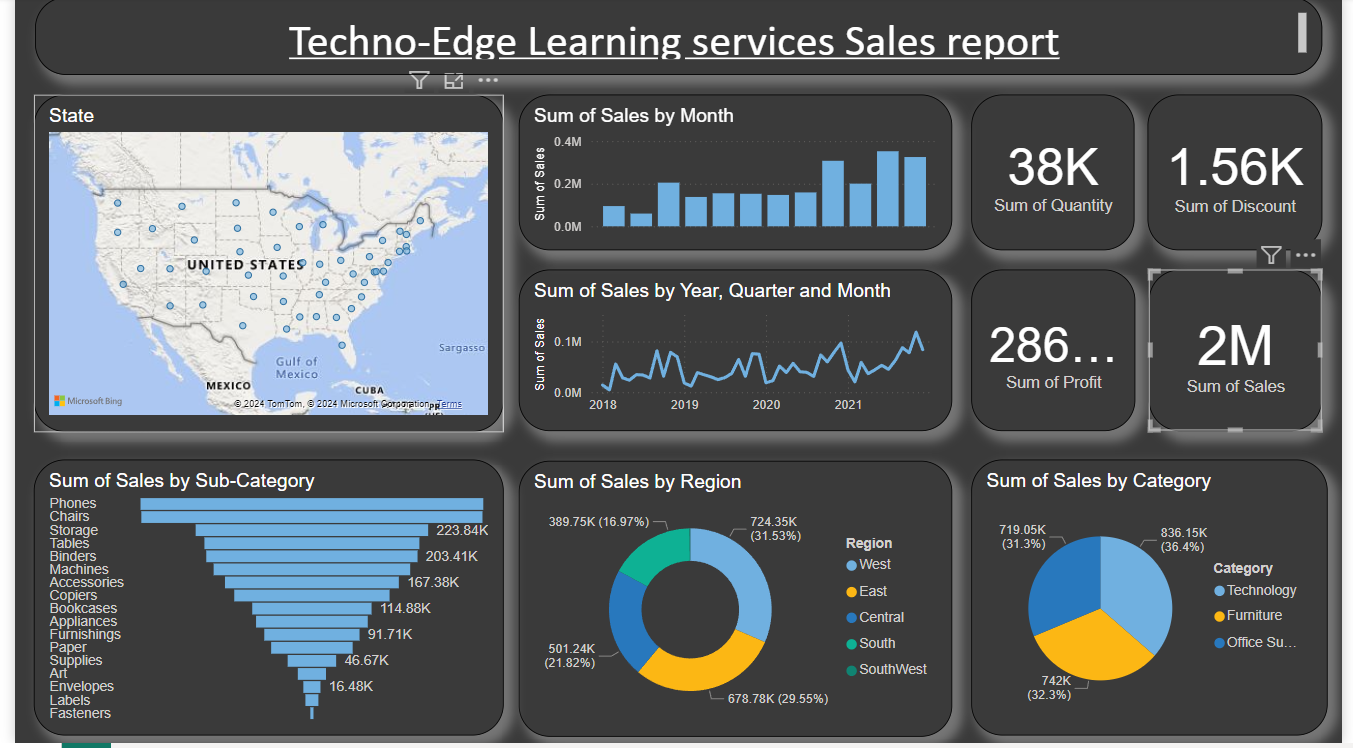

The page's visual inventory and layout, read from the dashboard file:
{"tool":"powerbi","page":{"name":"Page 1","canvas":[1280,720],"ordinal":0},"visuals":[{"type":"pieChart","fields":{"Category":["Orders.Category"],"Y":["Sum(Orders.Sales)"]},"box":[922.5,446.2,343.8,266.2],"z":0},{"type":"donutChart","fields":{"Category":["Orders.Region"],"Y":["Sum(Orders.Sales)"]},"box":[486.2,447.5,418.8,266.2],"z":1000},{"type":"funnel","fields":{"Category":["Orders.Sub-Category"],"Y":["Sum(Orders.Sales)"]},"box":[14,446.3,453.7,266.6],"z":2000},{"type":"map","fields":{"Category":["Orders.State"]},"box":[18.3,94.2,453.7,325.3],"z":3000},{"type":"lineChart","fields":{"Category":["Orders.Order Date.Variation.Date Hierarchy.Year","Orders.Order Date.Variation.Date Hierarchy.Quarter","Orders.Order Date.Variation.Date Hierarchy.Month"],"Y":["Sum(Orders.Sales)"]},"box":[486.2,262.5,418.8,156.2],"z":4000},{"type":"card","fields":{"Values":["Sum(Orders1.Profit)"]},"box":[922.5,262.5,158.8,156.2],"z":5000},{"type":"card","fields":{"Values":["Sum(Orders.Sales)"]},"box":[1093.8,262.5,167.5,156.2],"z":6000},{"type":"card","fields":{"Values":["Sum(Orders1.Quantity)"]},"box":[922.5,93.8,157.5,150],"z":7000},{"type":"card","fields":{"Values":["Sum(Orders.Discount)"]},"box":[1092.5,93.8,168.8,150],"z":8000},{"type":"textbox","box":[19.3,0,1241.4,74.8],"z":9000},{"type":"columnChart","fields":{"Category":["Orders.Order Date.Variation.Date Hierarchy.Year","Orders.Order Date.Variation.Date Hierarchy.Quarter","Orders.Order Date.Variation.Date Hierarchy.Month","Orders.Order Date.Variation.Date Hierarchy.Day"],"Y":["Sum(Orders.Sales)"]},"box":[486.2,93.8,418.8,150],"z":10000}]}

Visuals, with their boxes in screenshot pixels (x1, y1, x2, y2), scaled from the page's 1280x720 canvas onto the 1353x748 screenshot:
pieChart - Orders.Category x Sum(Orders.Sales): x1=975 y1=464 x2=1339 y2=740
donutChart - Orders.Region x Sum(Orders.Sales): x1=514 y1=465 x2=957 y2=741
funnel - Orders.Sub-Category x Sum(Orders.Sales): x1=15 y1=464 x2=494 y2=741
map - Orders.State: x1=19 y1=98 x2=499 y2=436
lineChart - Orders.Order Date.Variation.Date Hierarchy.Year x Orders.Order Date.Variation.Date Hierarchy.Quarter: x1=514 y1=273 x2=957 y2=435
card - Sum(Orders1.Profit): x1=975 y1=273 x2=1143 y2=435
card - Sum(Orders.Sales): x1=1156 y1=273 x2=1333 y2=435
card - Sum(Orders1.Quantity): x1=975 y1=97 x2=1142 y2=253
card - Sum(Orders.Discount): x1=1155 y1=97 x2=1333 y2=253
textbox: x1=20 y1=0 x2=1333 y2=78
columnChart - Orders.Order Date.Variation.Date Hierarchy.Year x Orders.Order Date.Variation.Date Hierarchy.Quarter: x1=514 y1=97 x2=957 y2=253
